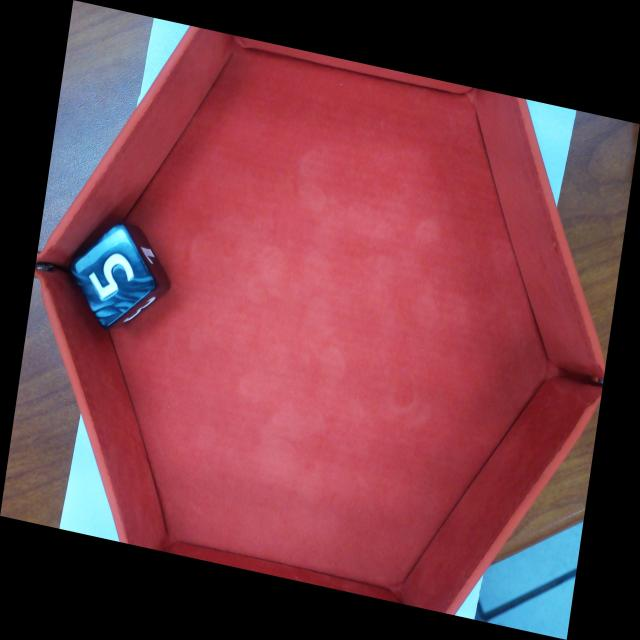dice: (67, 218, 160, 332)
